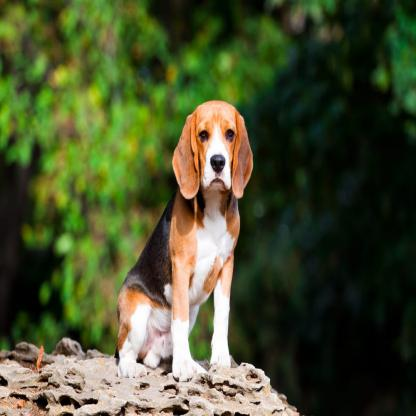Bigl: (118, 99, 256, 376)
